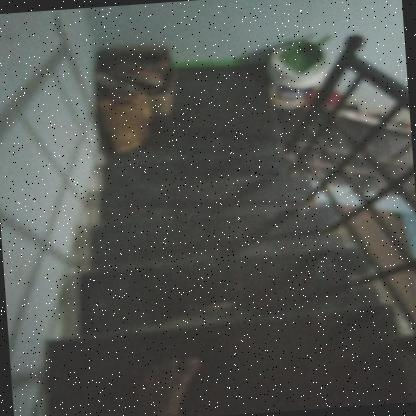stair: (40, 96, 410, 413)
